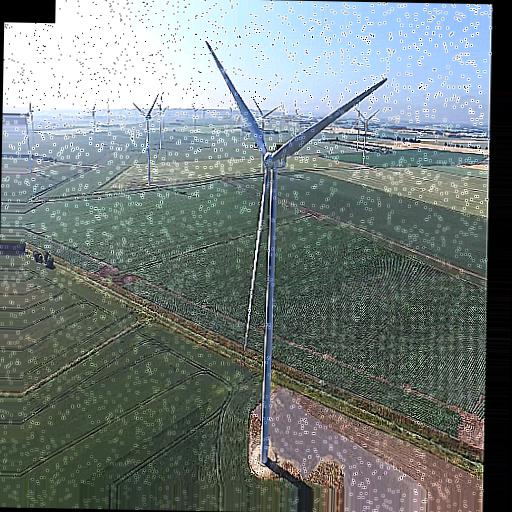wind turbine: (202, 39, 393, 462), (130, 92, 158, 188), (354, 104, 380, 168)
